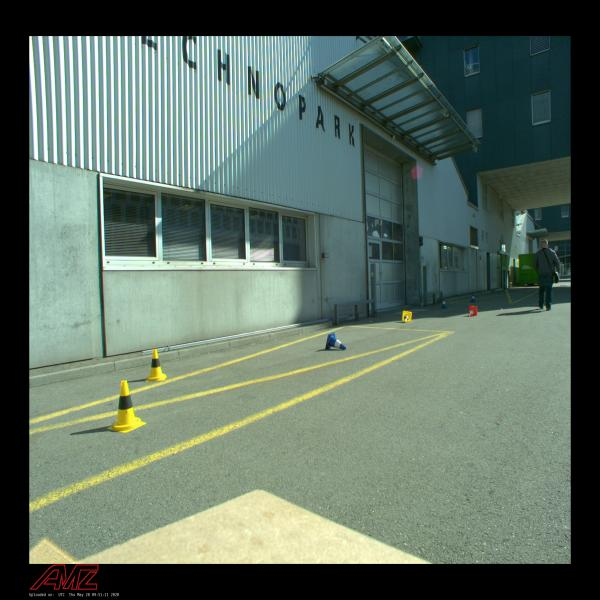blue_cone: (325, 332, 346, 351), (441, 298, 447, 308), (470, 294, 476, 302)
orange_cone: (468, 306, 477, 316)
yellow_cone: (107, 380, 147, 433), (146, 349, 167, 381), (402, 310, 412, 324)
